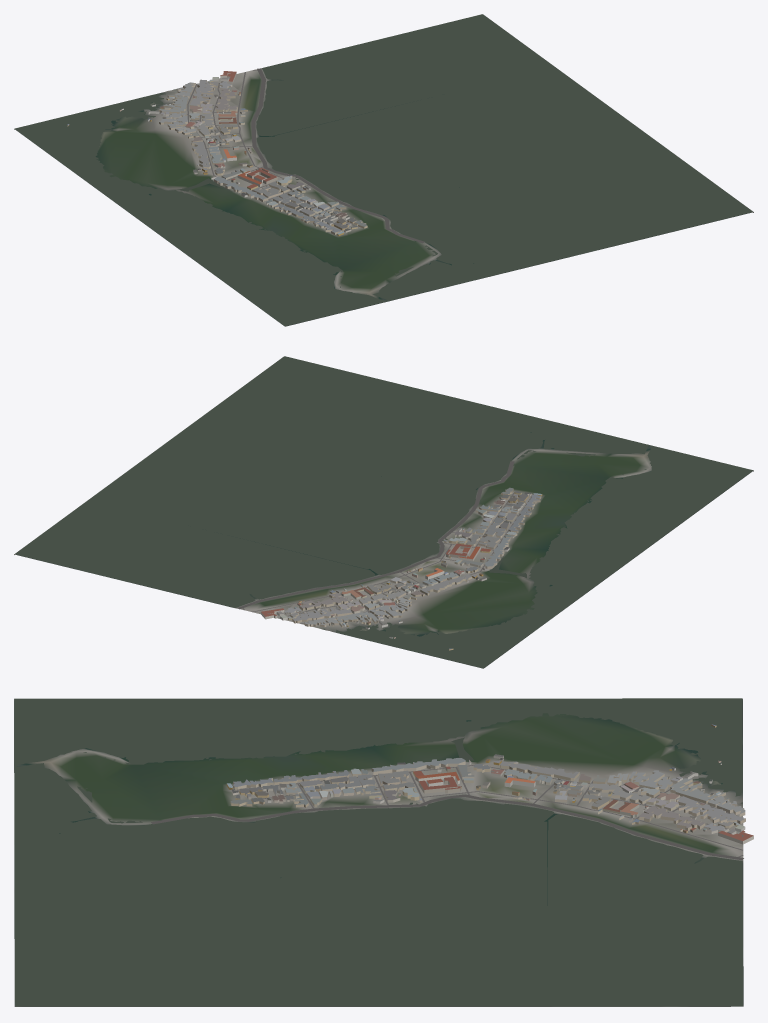
The picture shows the model from 3 angles, top to bottom: view 1: azimuth 30°, elevation 25°; view 2: azimuth 150°, elevation 25°; view 3: azimuth 270°, elevation 25°; orthographic projection. The views are drawn at different scales.
Visible parts, largest first — view 1: water, ground, buildings, roads; view 2: water, ground, buildings, roads; view 3: water, ground, buildings, roads.
Boxes of the visible parts, x1,y1,x2,y2 form: water: [15, 14, 752, 326]; ground: [14, 14, 753, 326]; buildings: [67, 71, 367, 236]; roads: [159, 68, 424, 243]; water: [15, 356, 752, 668]; ground: [14, 357, 753, 668]; buildings: [261, 487, 542, 650]; roads: [237, 461, 531, 623]; water: [14, 698, 742, 1006]; ground: [14, 698, 743, 1006]; buildings: [226, 724, 753, 844]; roads: [151, 765, 743, 860].
Size of the model in its own units: 1403 by 12.32 by 1422.
